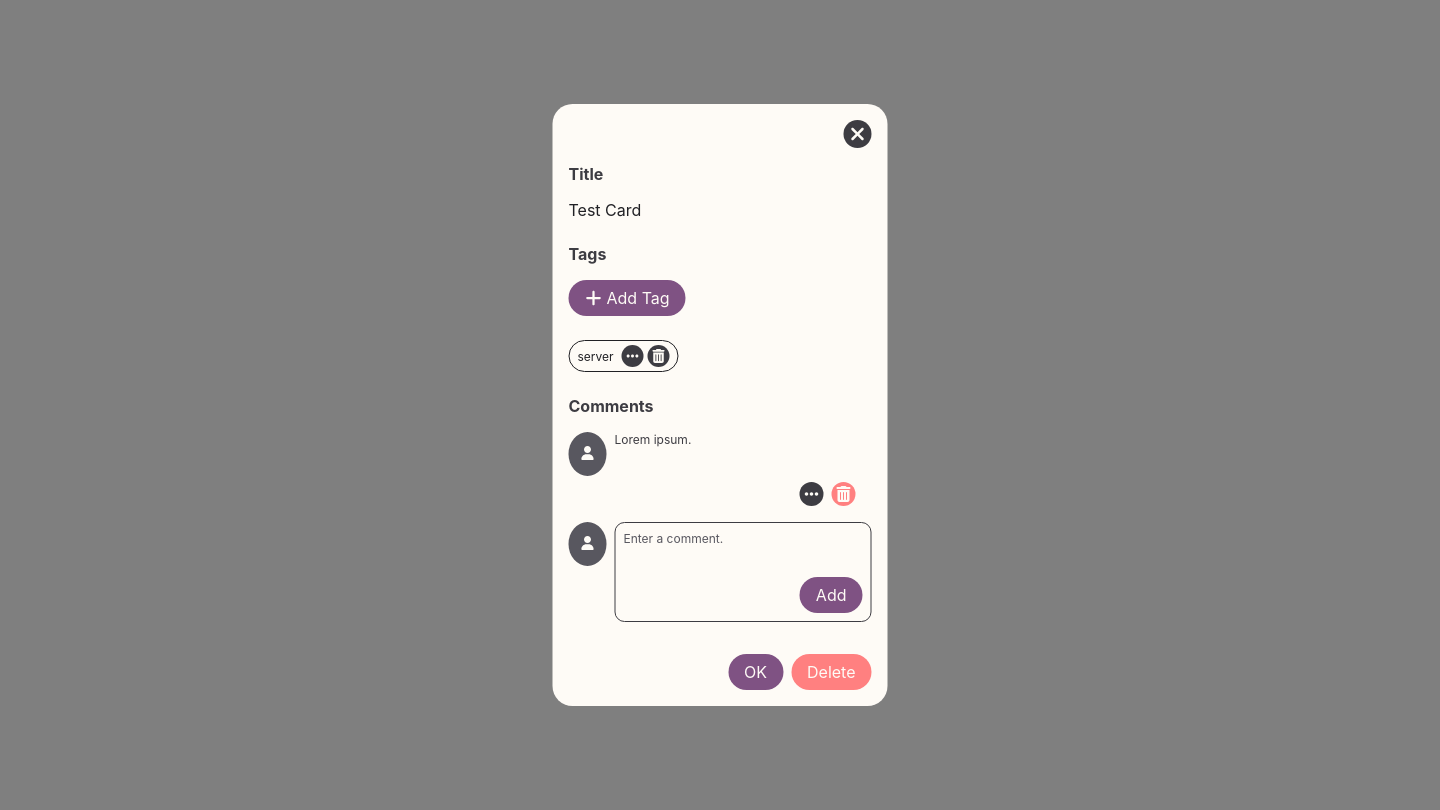
Scenario: card info modal › delete tag
Click the button named "delete-tag" at (659, 356), box [648,345,670,367]
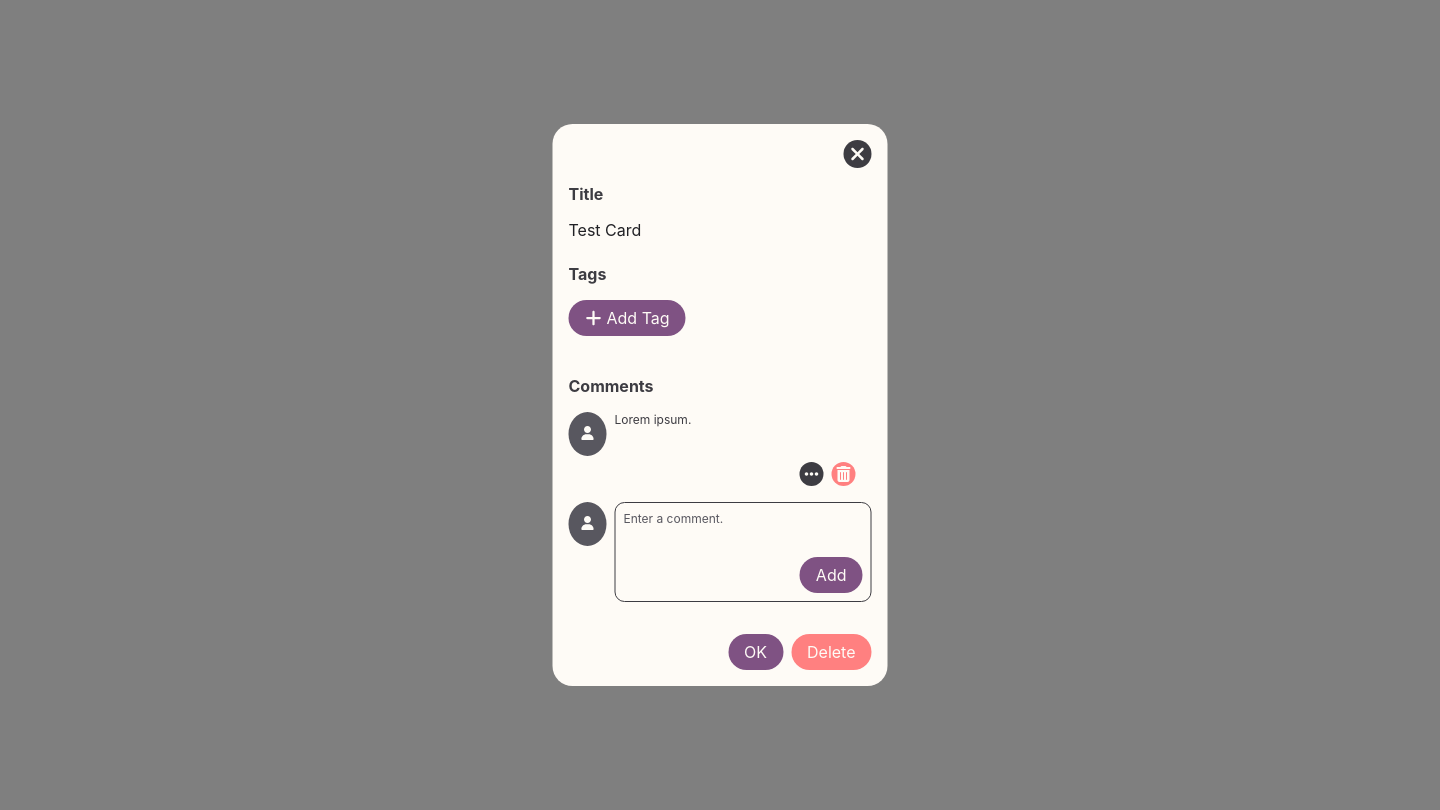
Expected: the text "server" is gone
